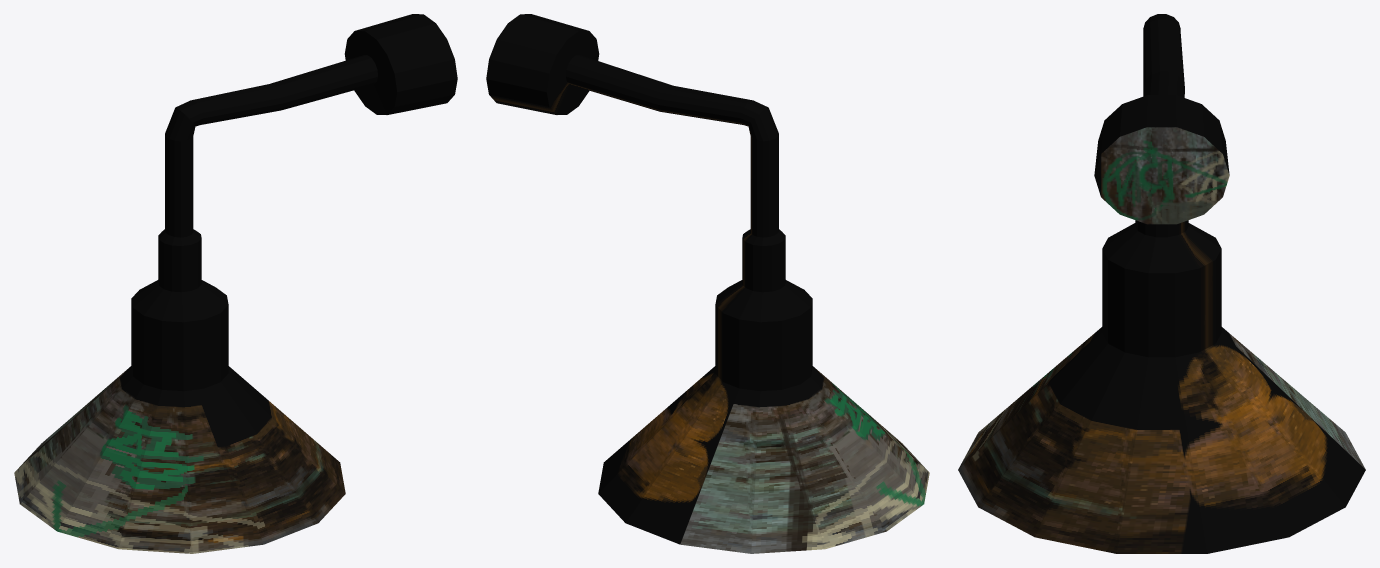
Rendered from SM_lamp.fbx.
The picture shows the model from 3 angles, left to right: view 1: azimuth 30°, elevation 25°; view 2: azimuth 150°, elevation 25°; view 3: azimuth 270°, elevation 25°; orthographic projection. The views are drawn at different scales.
Parts seen in each view (by area): view 1: SM_lightL; view 2: SM_lightL; view 3: SM_lightL.
Part boxes in pixels (box(x1,y1,x2,y2)): SM_lightL: box(14, 14, 457, 553); SM_lightL: box(486, 14, 929, 553); SM_lightL: box(958, 14, 1365, 553).
Size of the model in its own units: 51.13 by 50.36 by 37.92.
